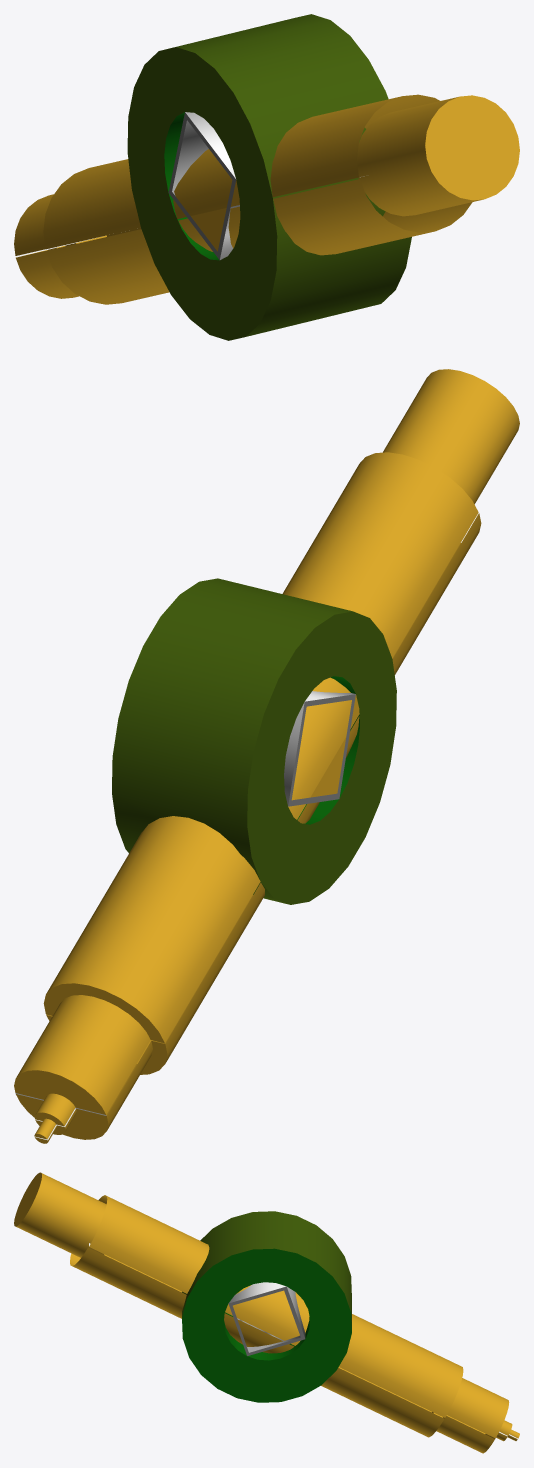
The model's file is telescopio.obj.
The picture shows the model from 3 angles, top to bottom: view 1: azimuth 30°, elevation 25°; view 2: azimuth 150°, elevation 25°; view 3: azimuth 270°, elevation 25°; orthographic projection. The views are drawn at different scales.
Visible parts, largest first — view 1: Mesh1 Model, Mesh2 Model; view 2: Mesh1 Model, Mesh2 Model; view 3: Mesh1 Model, Mesh2 Model.
Part boxes in pixels (left/top/right/bottom): Mesh1 Model: left=14, top=14, right=472, bottom=340; Mesh2 Model: left=357, top=95, right=519, bottom=216; Mesh1 Model: left=14, top=452, right=481, bottom=1143; Mesh2 Model: left=383, top=369, right=519, bottom=504; Mesh1 Model: left=70, top=1195, right=519, bottom=1453; Mesh2 Model: left=14, top=1172, right=106, bottom=1257.
Size of the model in its own units: 32.94 by 113 by 188.
